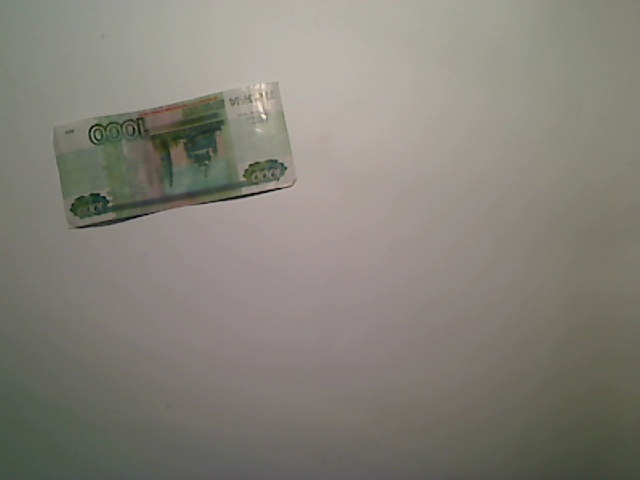banknotes: (47, 72, 305, 236)
